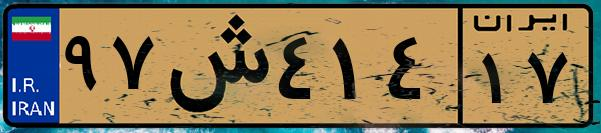1: (330, 28, 385, 110), (475, 38, 525, 113)
4: (270, 28, 330, 110), (385, 28, 445, 110)
7: (525, 38, 570, 115), (110, 28, 158, 98)
9: (57, 26, 110, 100)
ش: (158, 12, 270, 120)
